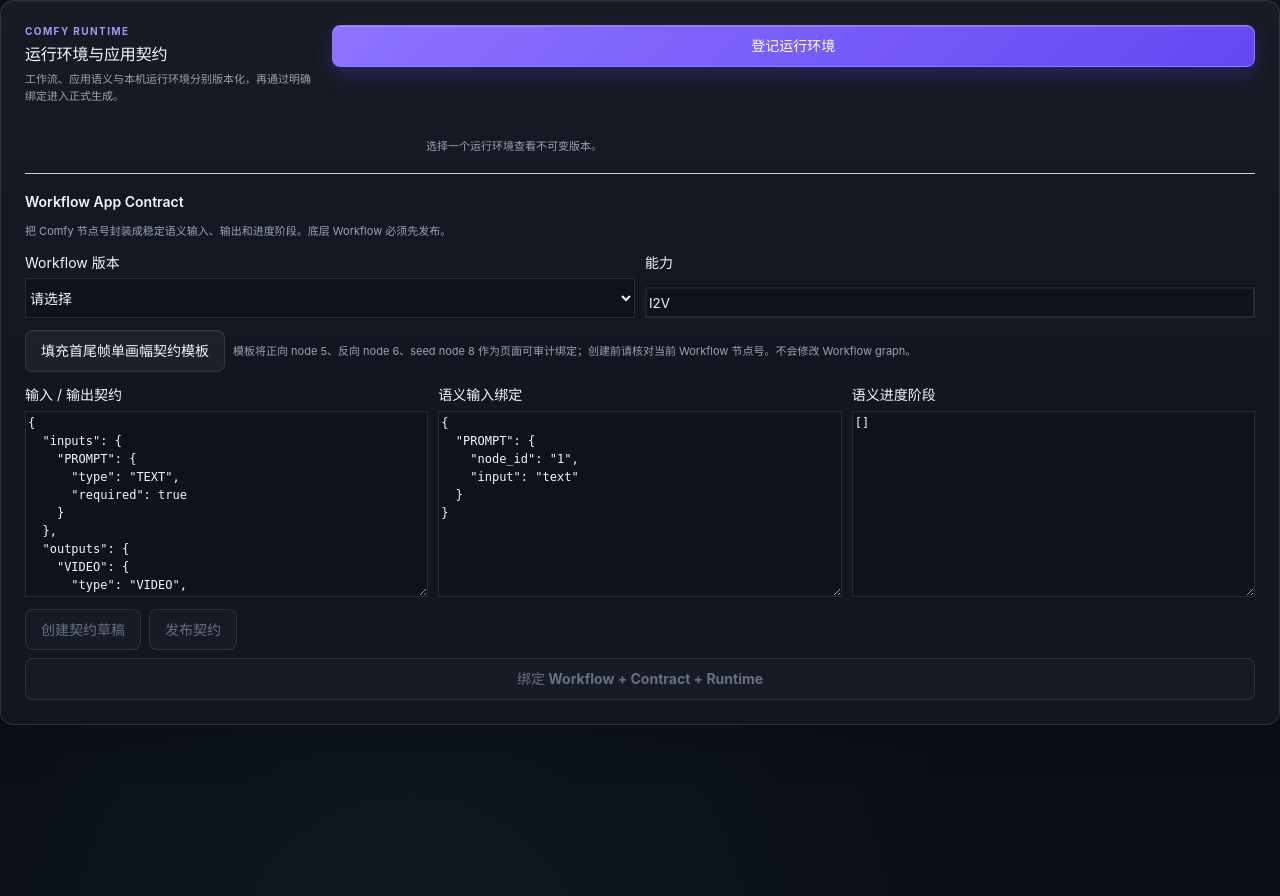
Scenario: RuntimeEnvironmentsPanel › fills the auditable single-frame contract without submitting it
The width and height of the screenshot is (1280, 896).
Expected: the heading "Workflow App Contract" is shown, [25, 193, 184, 210]
Click the button "填充首尾帧单画幅契约模板": [125, 351] box [25, 330, 225, 372]
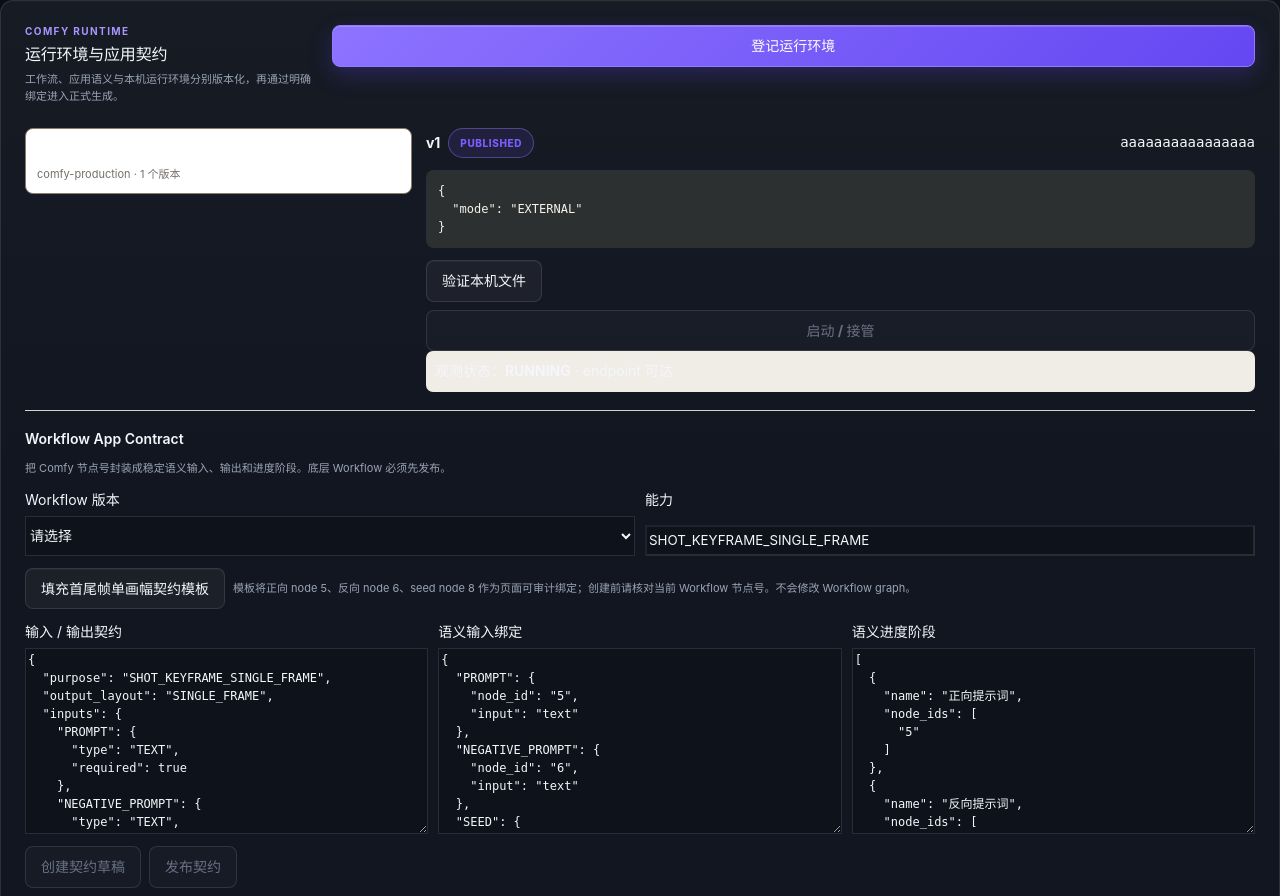
Result: the field labelled "能力" holds "SHOT_KEYFRAME_SINGLE_FRAME" at [645, 525, 1255, 556]
